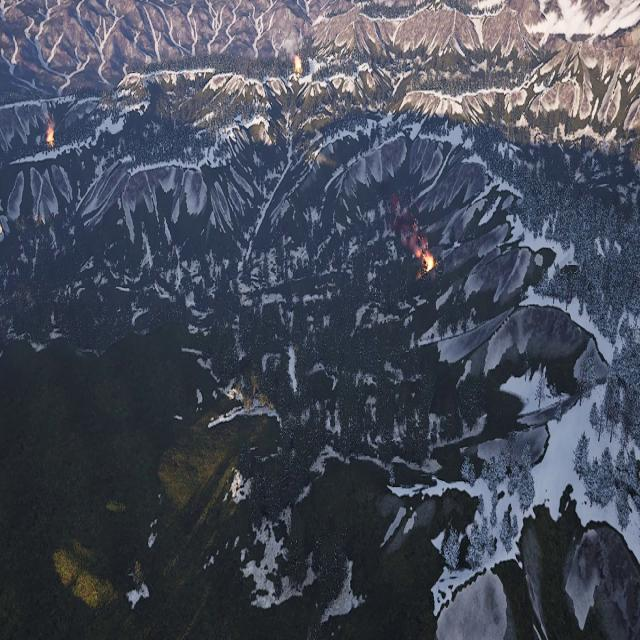fire: (424, 253, 436, 271), (45, 126, 54, 146), (293, 56, 301, 74)
smoke: (386, 205, 426, 259), (273, 10, 301, 57), (41, 101, 54, 126)
